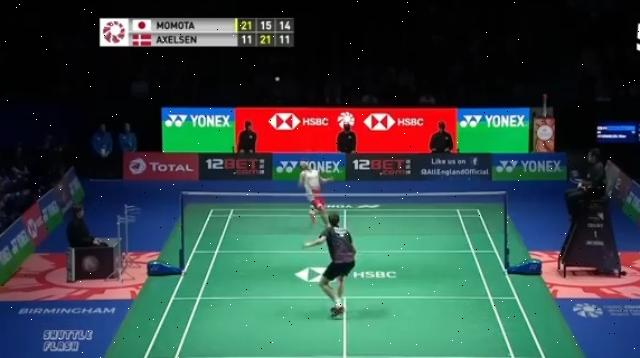Shuttlecock: (274, 76, 282, 82)
